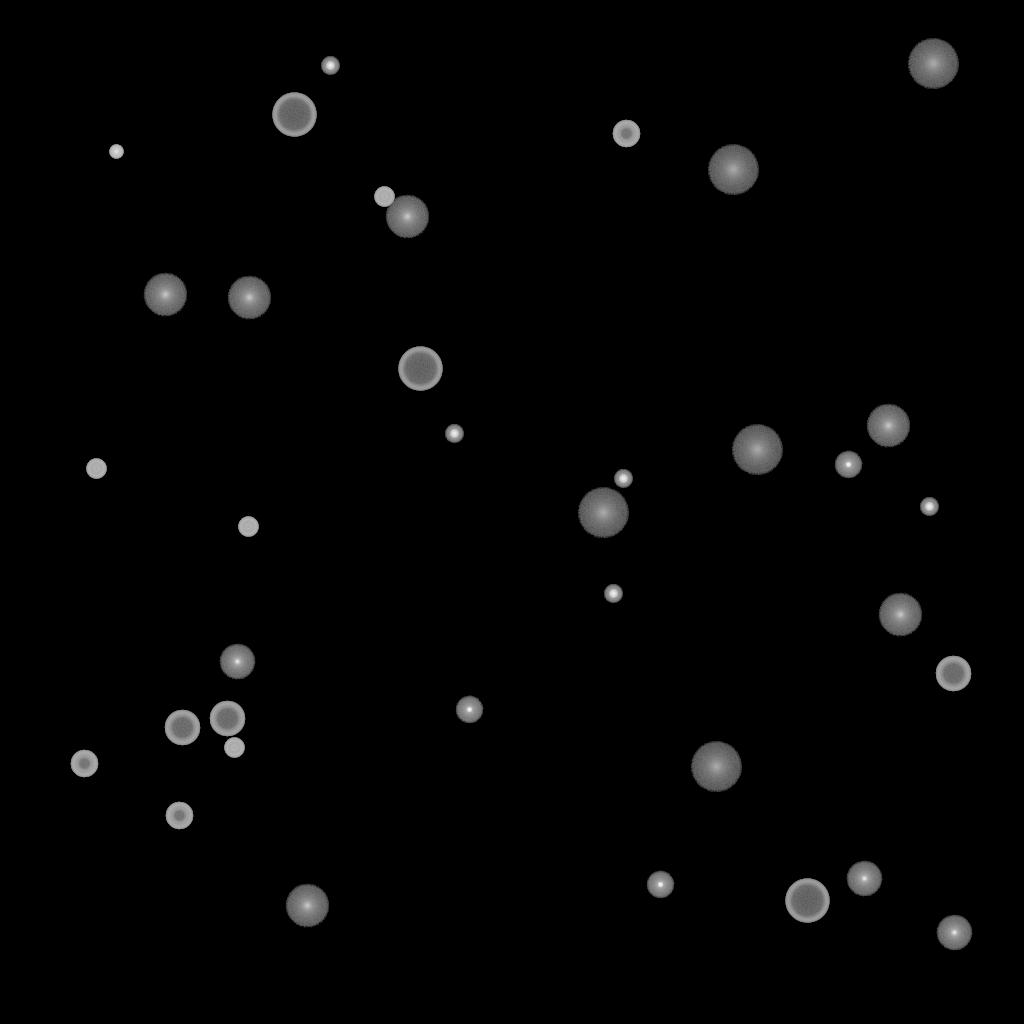depth:-10: (646, 871, 674, 899), (834, 451, 862, 479), (455, 696, 483, 724)
depth:-20: (614, 470, 632, 488), (321, 57, 339, 75), (920, 498, 938, 516), (604, 585, 622, 603), (445, 425, 463, 443)
depth:-30: (109, 145, 123, 159)
depth:-40: (238, 517, 258, 537), (224, 738, 244, 758), (374, 187, 394, 207), (86, 459, 106, 479)
depth:-50: (165, 802, 193, 830), (612, 120, 640, 148), (70, 750, 98, 778)
depth:-60: (164, 710, 200, 746), (209, 701, 245, 737), (935, 656, 971, 692)
depth:-70: (272, 93, 316, 137), (398, 347, 442, 391), (785, 879, 829, 923)
depth:0: (936, 915, 972, 951), (846, 861, 882, 897), (219, 644, 255, 680)
depth:10: (385, 195, 429, 239), (285, 884, 329, 928), (878, 593, 922, 637), (143, 273, 187, 317), (866, 404, 910, 448), (227, 276, 271, 320)
depth:20: (577, 488, 629, 538), (707, 145, 759, 195), (731, 425, 783, 475), (690, 742, 742, 792), (907, 39, 959, 89)
